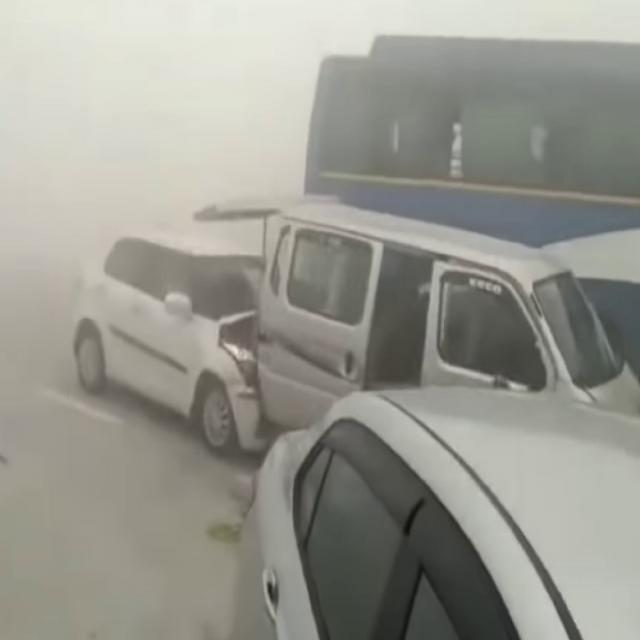accident: (176, 215, 335, 468)
